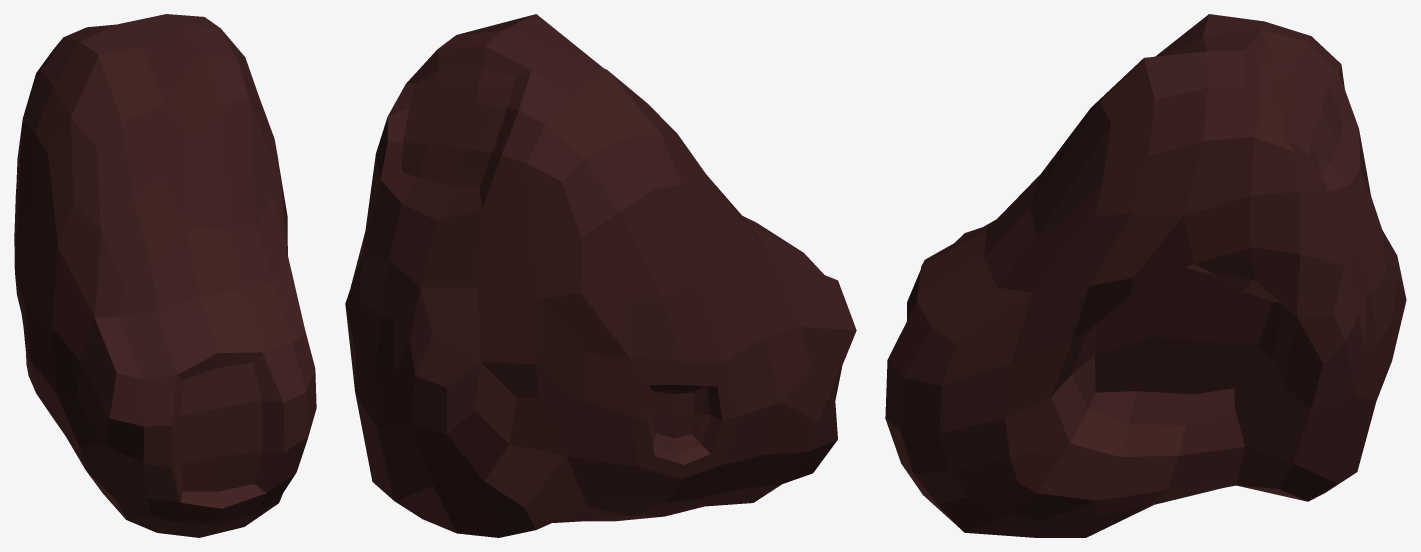
The model's file is Asteroid2.fbx.
3 renders of one model, left to right at view 1: azimuth 30°, elevation 25°; view 2: azimuth 150°, elevation 25°; view 3: azimuth 270°, elevation 25°, orthographic. The views are drawn at different scales.
Visible parts, largest first — view 1: Cube; view 2: Cube; view 3: Cube.
Boxes of the visible parts, x1=… form: Cube: x1=14, y1=14, x2=316, y2=537; Cube: x1=345, y1=14, x2=856, y2=537; Cube: x1=885, y1=14, x2=1406, y2=537.
Size of the model in its own units: 247 by 393 by 368.
